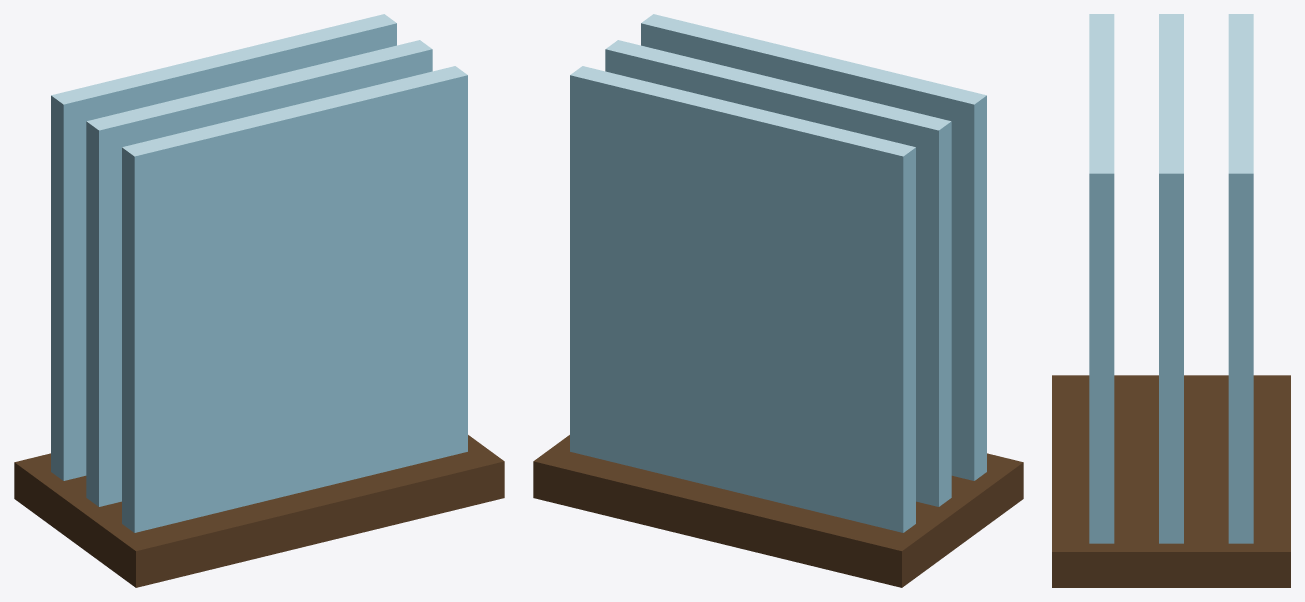
File: glass.glb
3 renders of one model, left to right at view 1: azimuth 30°, elevation 25°; view 2: azimuth 150°, elevation 25°; view 3: azimuth 270°, elevation 25°, orthographic.
Visible parts, largest first — view 1: glass; view 2: glass; view 3: glass.
Boxes of the visible parts, x1=… form: glass: x1=14, y1=14, x2=504, y2=587; glass: x1=533, y1=14, x2=1023, y2=587; glass: x1=1052, y1=14, x2=1290, y2=587.
Bounding box in the file's own units: 0.84 × 0.9 × 0.48.
